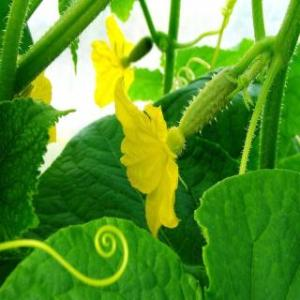cucumber: (178, 64, 240, 138), (128, 36, 154, 64)
